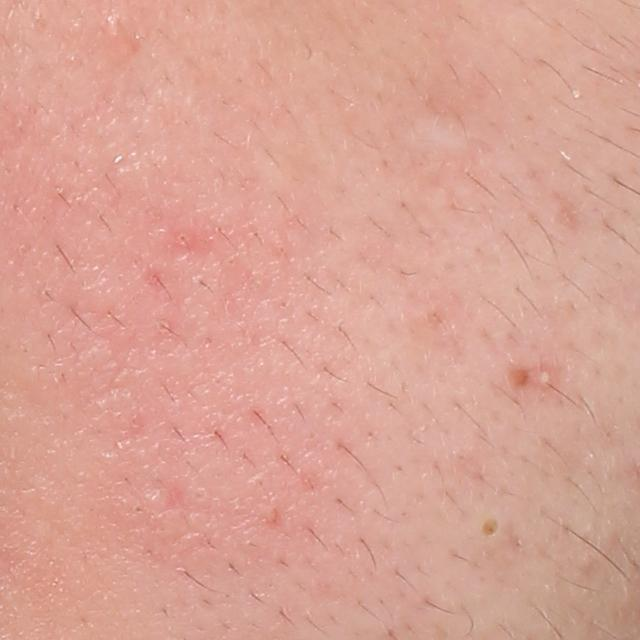comedo: (476, 515, 502, 544)
hypertrophic_scar: (405, 107, 476, 159)
